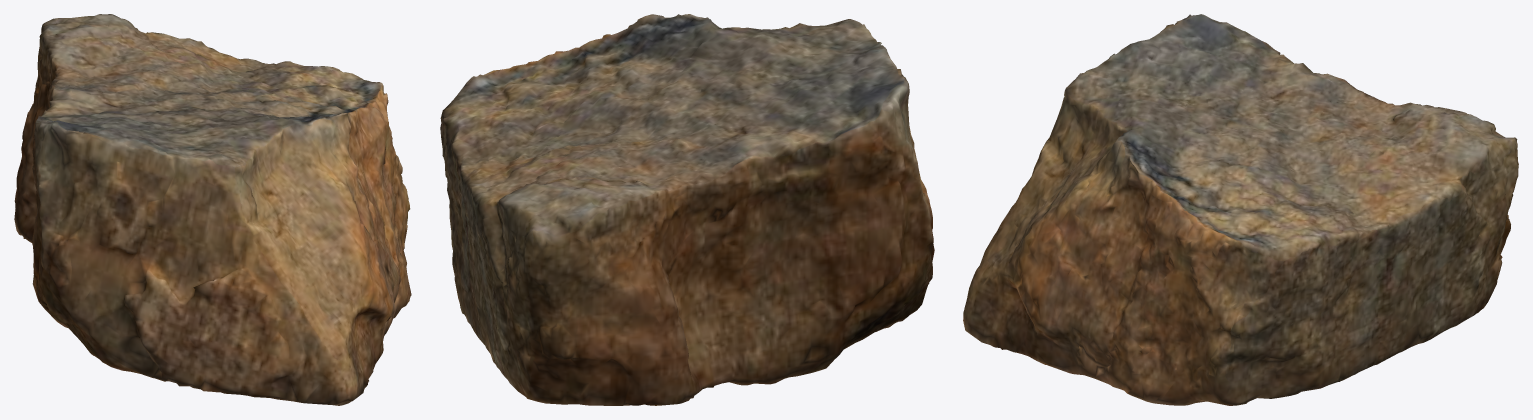
File: rock_b.glb
3 views of the same model, side by side, from view 1: azimuth 30°, elevation 25°; view 2: azimuth 150°, elevation 25°; view 3: azimuth 270°, elevation 25° (orthographic). The views are drawn at different scales.
Parts seen in each view (by area): view 1: boulder_03_LOD0; view 2: boulder_03_LOD0; view 3: boulder_03_LOD0.
Boxes of the visible parts, x1,y1,x2,y2 form: boulder_03_LOD0: [14, 14, 411, 405]; boulder_03_LOD0: [440, 14, 934, 405]; boulder_03_LOD0: [963, 14, 1518, 405].
Bounding box in the file's own units: 2.41 × 1.47 × 3.07.
Materials: 1 (1 with a texture image).
